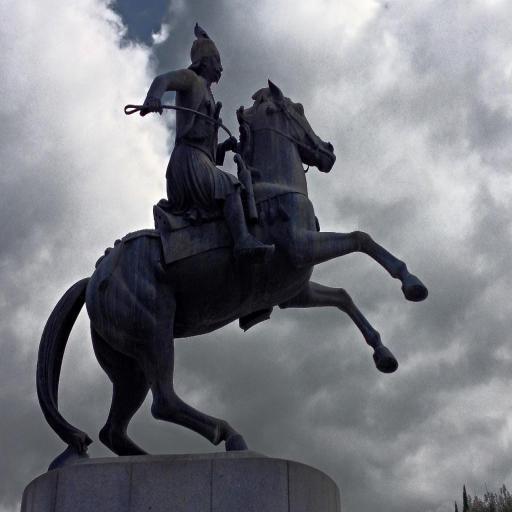Horse: (34, 78, 429, 458)
